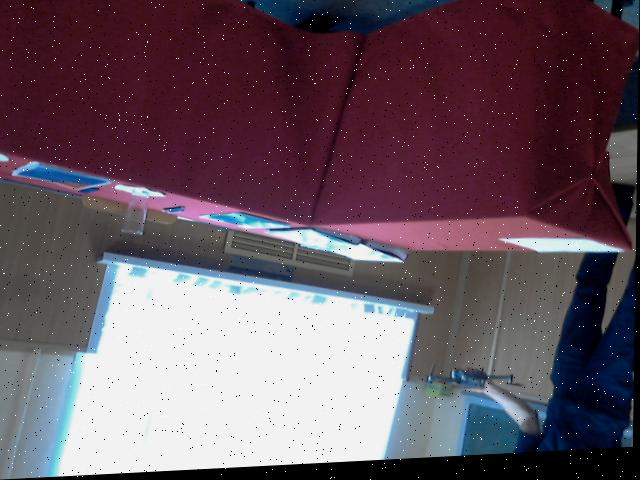drone: (411, 356, 532, 405)
